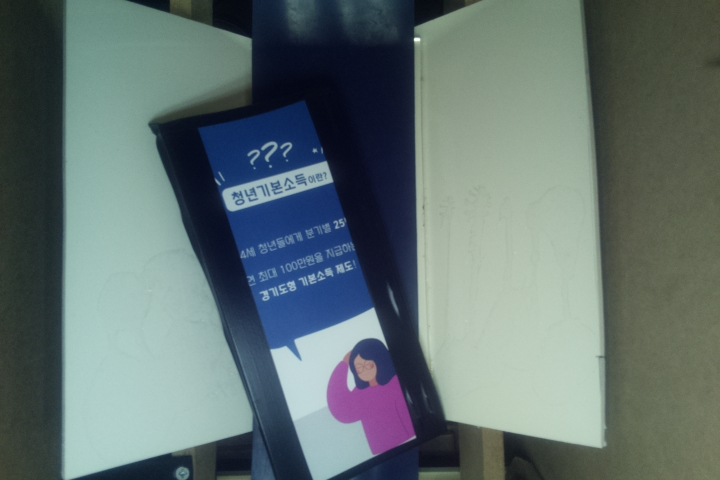book: (151, 90, 449, 480)
